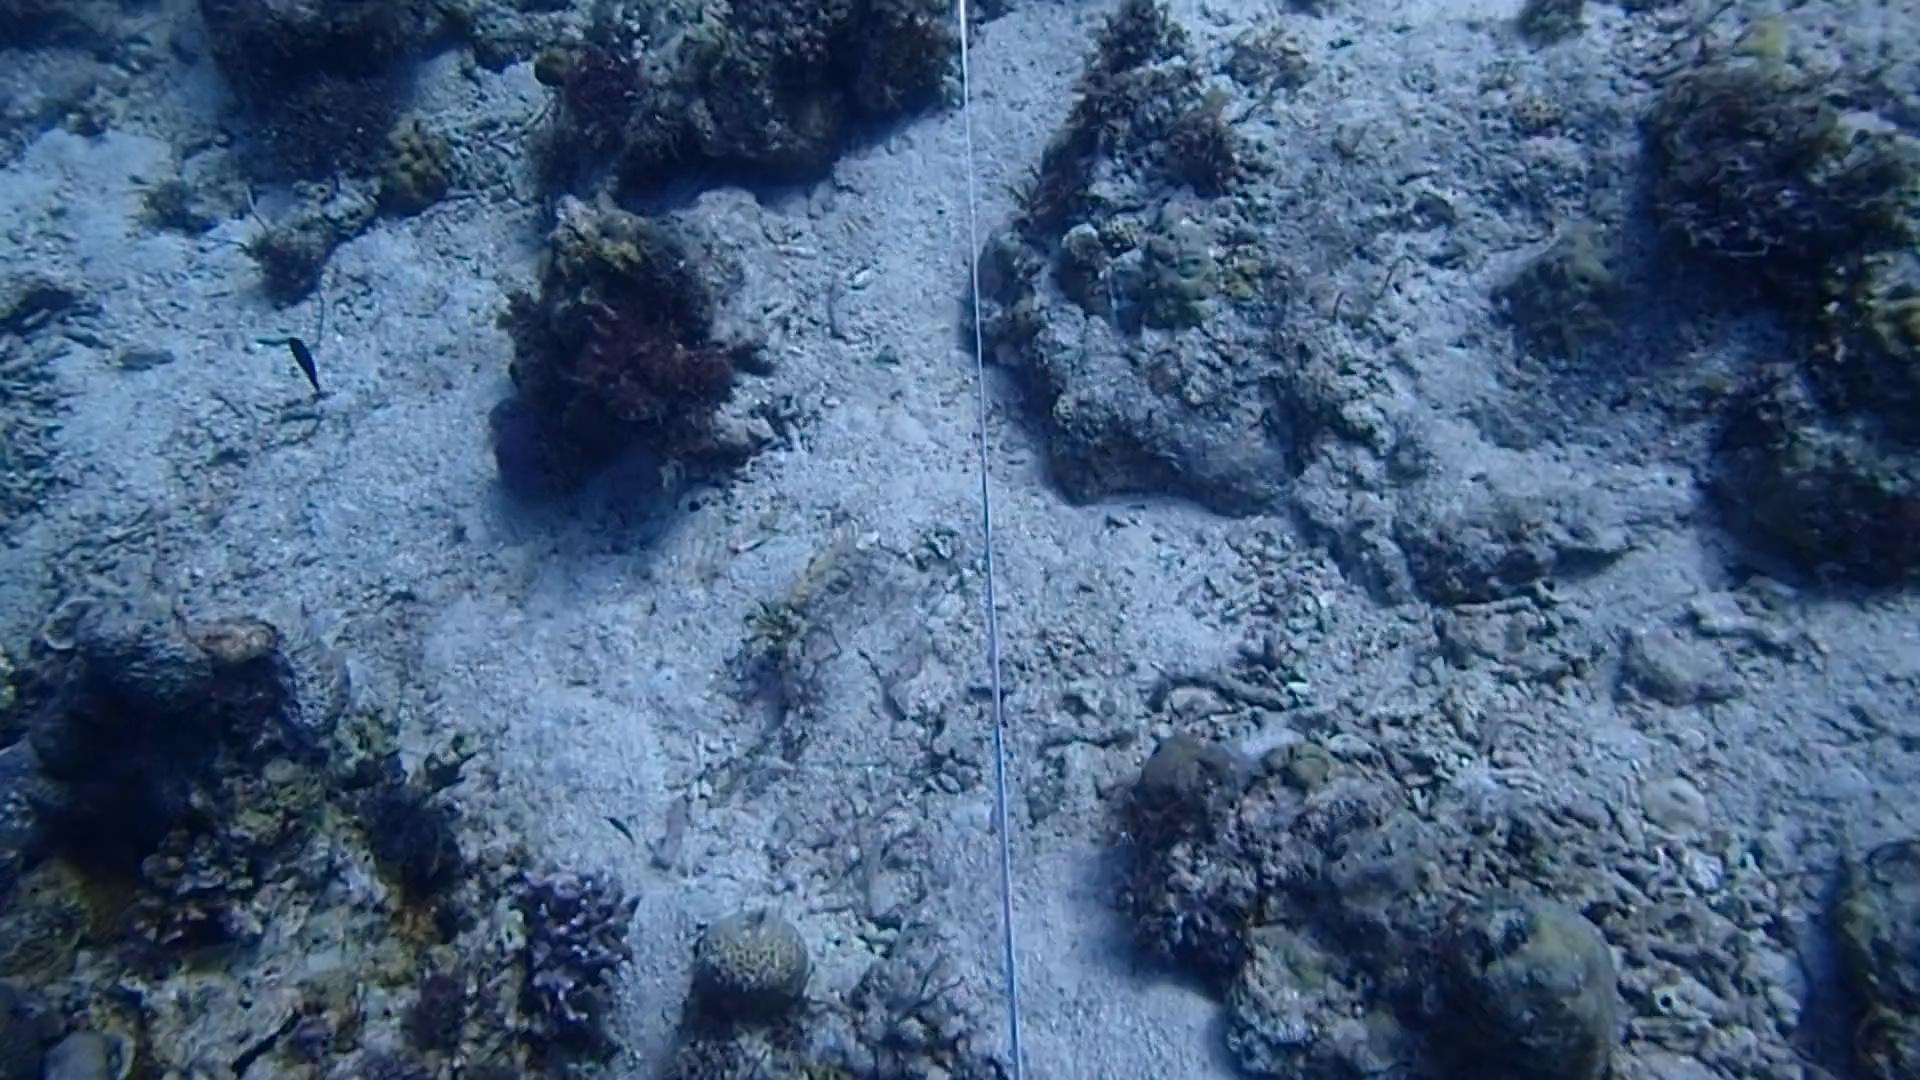Dark Fish: (285, 334, 334, 398)
